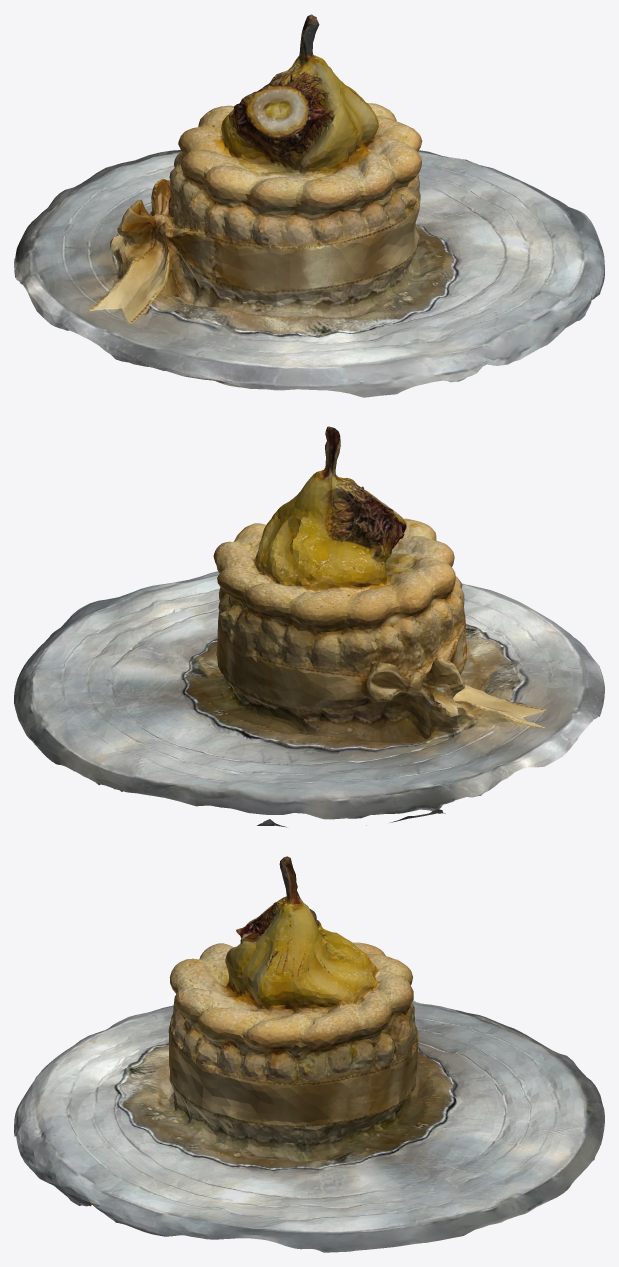
Rendered from pear-cake.glb.
3 renders of one model, top to bottom at view 1: azimuth 30°, elevation 25°; view 2: azimuth 150°, elevation 25°; view 3: azimuth 270°, elevation 25°, orthographic.
Bounding box in the file's own units: 1.01 × 0.5119 × 1.01.
1 material, 1 textured.
